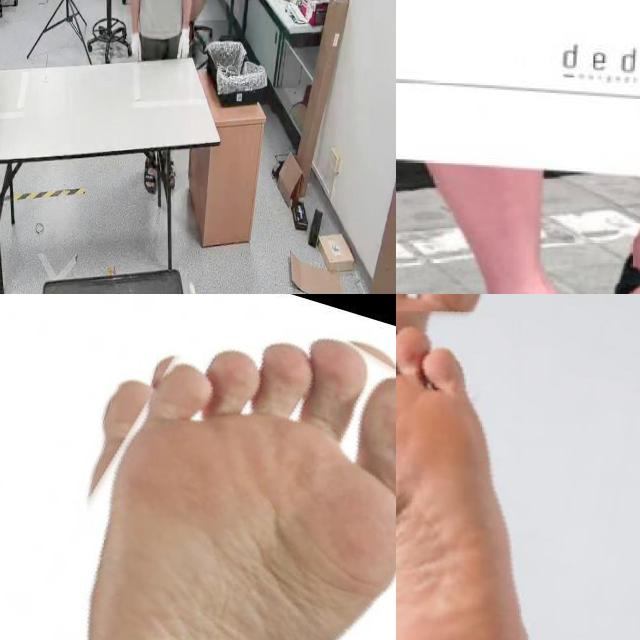Barefoots: (83, 327, 396, 640), (396, 294, 614, 640)
hand_glove: (177, 25, 193, 59), (130, 32, 146, 64)
person: (117, 0, 197, 63)
